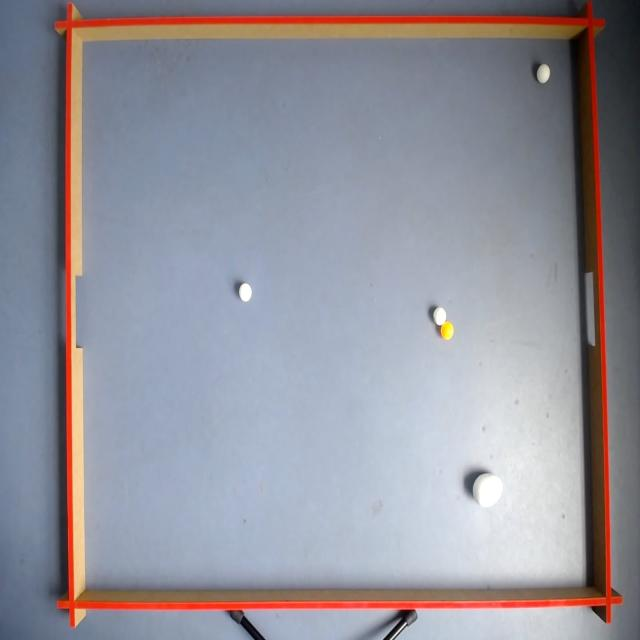corner: (592, 574, 624, 626), (57, 581, 87, 628), (54, 2, 84, 46), (576, 0, 604, 43)
